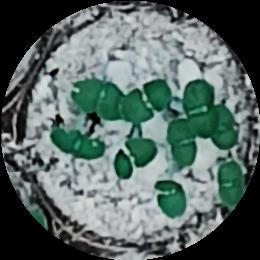Basil: (74, 77, 135, 124), (123, 75, 180, 124), (43, 126, 100, 161), (115, 134, 158, 178), (185, 81, 217, 135), (163, 121, 199, 166), (215, 157, 248, 206), (208, 106, 238, 147), (157, 180, 183, 219)
